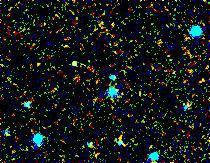star: (61, 45, 91, 75)
